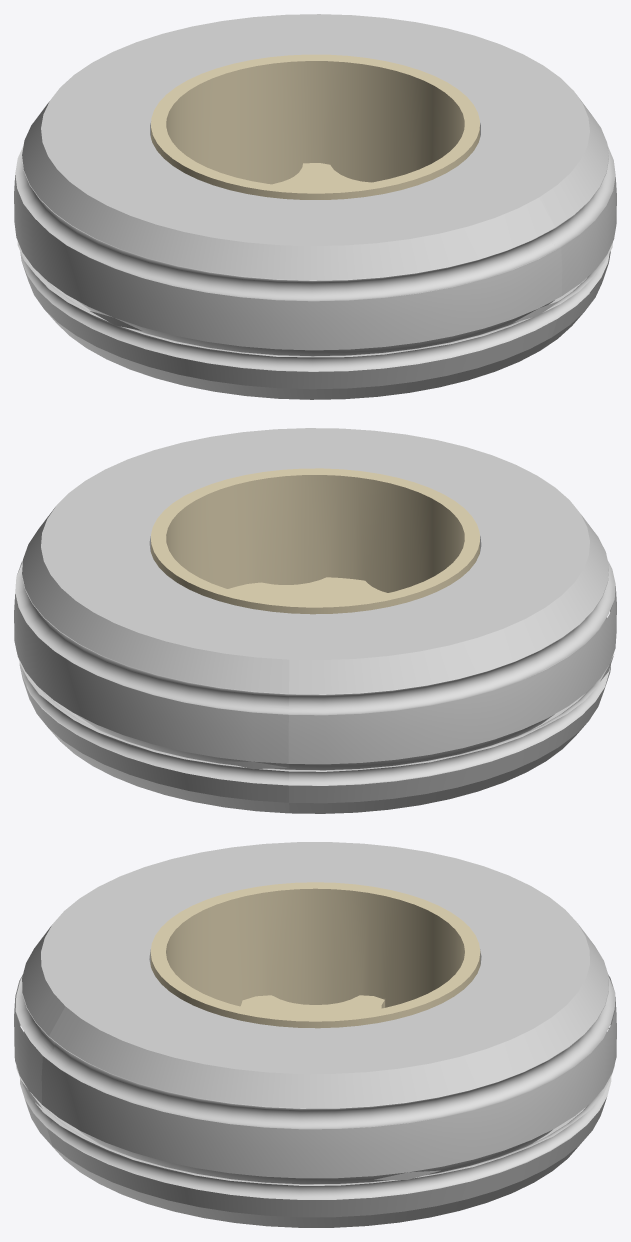
File: front_right_wheel_visual.obj
3 renders of one model, top to bottom at view 1: azimuth 30°, elevation 25°; view 2: azimuth 150°, elevation 25°; view 3: azimuth 270°, elevation 25°, orthographic.
Parts seen in each view (by area): view 1: front_right_wheel_visual; view 2: front_right_wheel_visual; view 3: front_right_wheel_visual.
Part boxes in pixels (left/top/right/bottom): front_right_wheel_visual: left=14, top=14, right=616, bottom=399; front_right_wheel_visual: left=14, top=428, right=616, bottom=813; front_right_wheel_visual: left=14, top=842, right=616, bottom=1227.
Bounding box in the file's own units: 0.516 × 0.1749 × 0.516.
